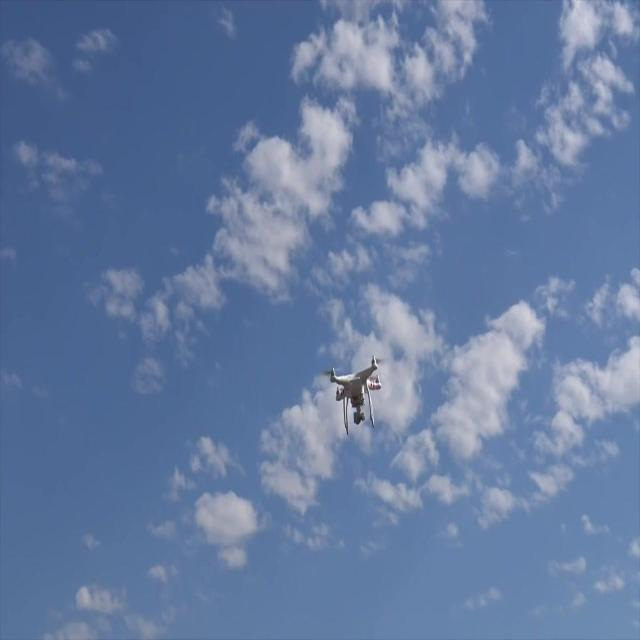drone: (328, 352, 382, 436)
